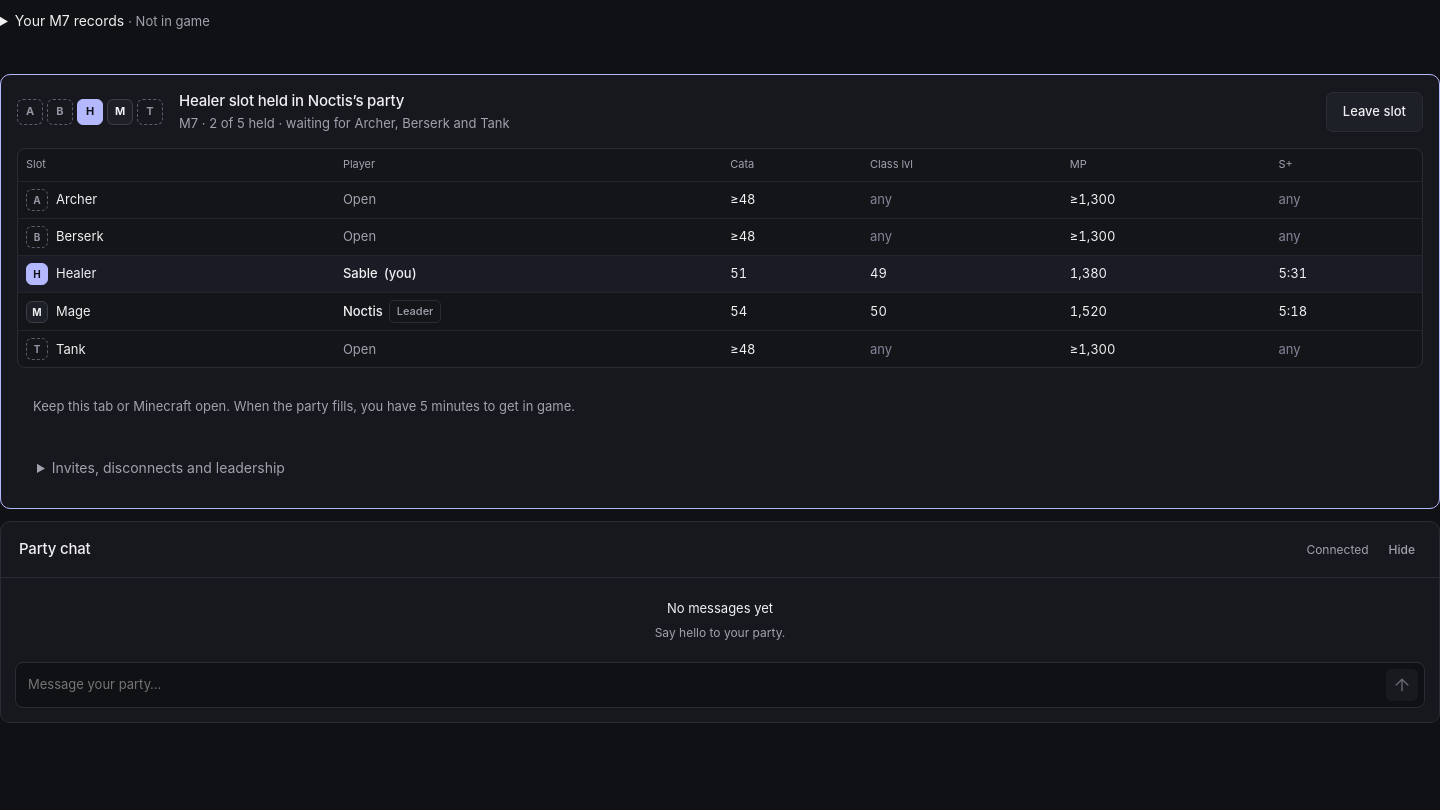
opens another member's card from the held party roster
Click the button "Noctis" at x=363, y=312, box [343,301,383,322]
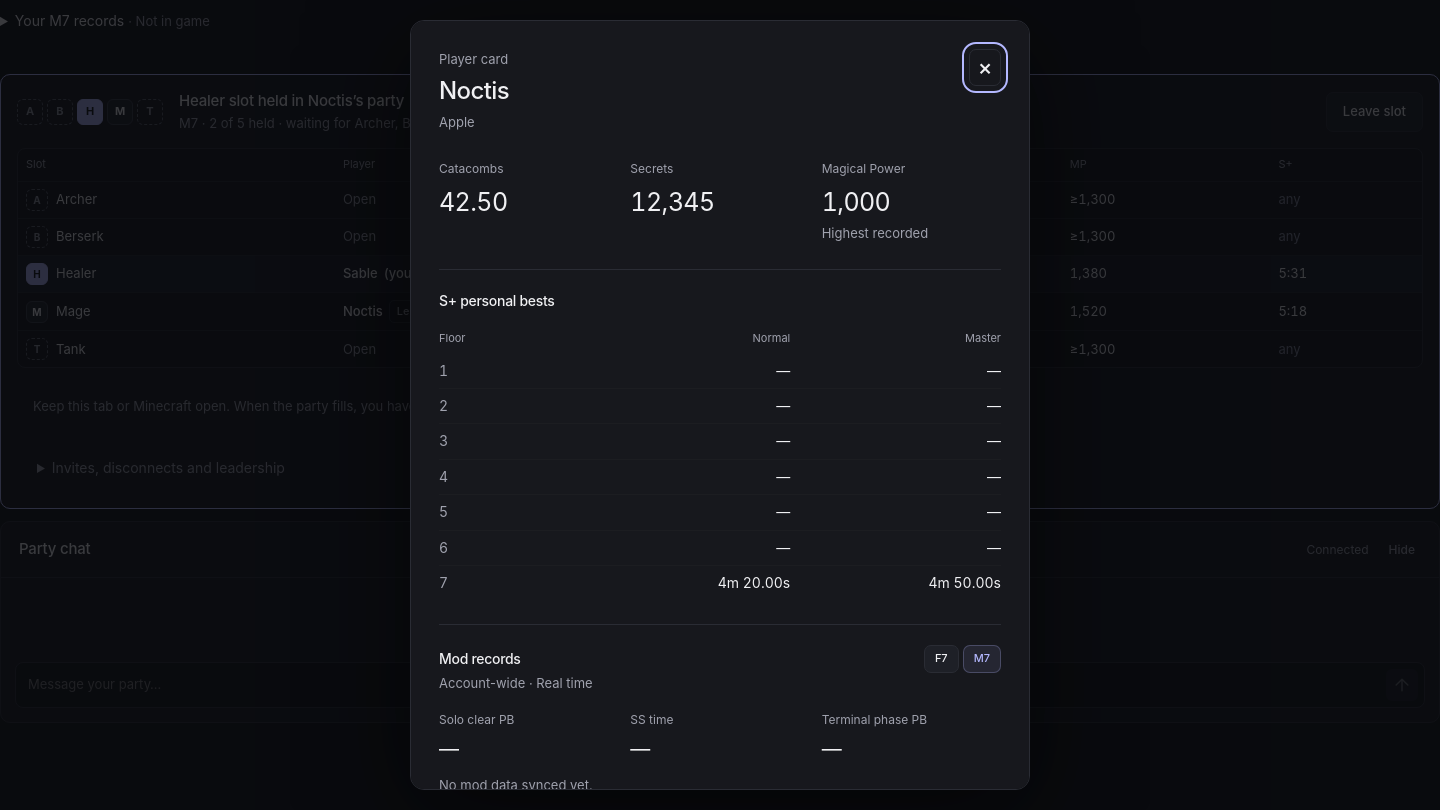
Expected: the dialog "Noctis" is shown, [410,20,1030,790]
Expected: the text "42.50" is shown, [439,187,508,217]
